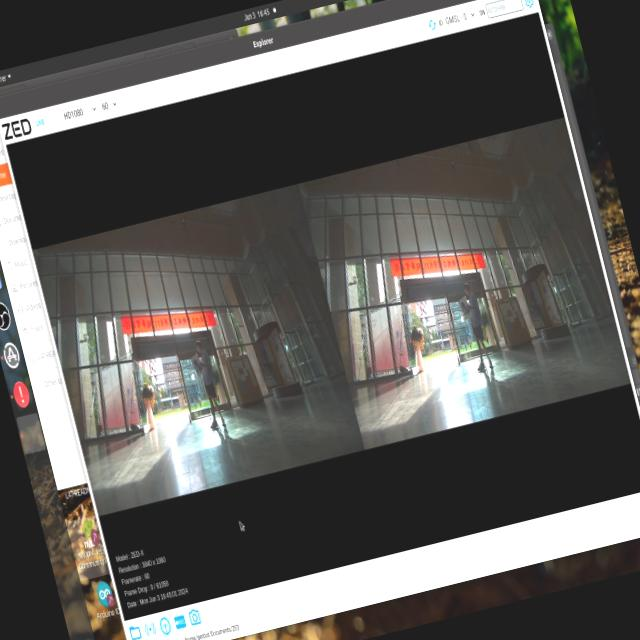blue: (184, 348, 207, 381), (458, 298, 472, 324)
